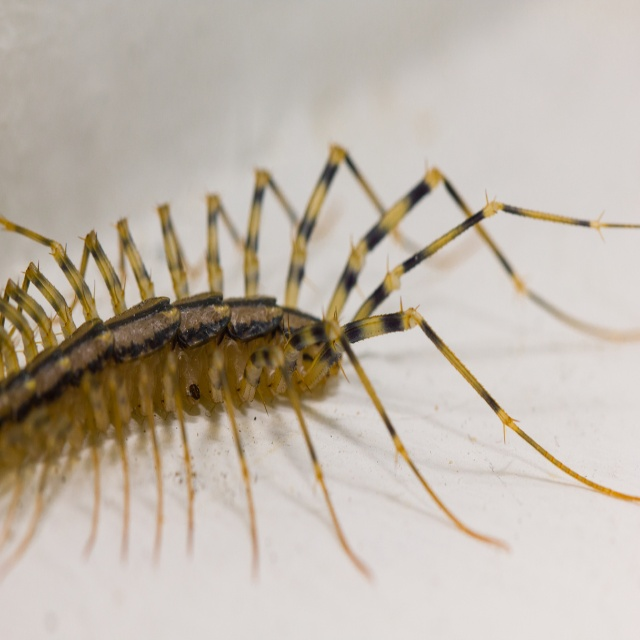Centipede: (0, 145, 640, 588)
